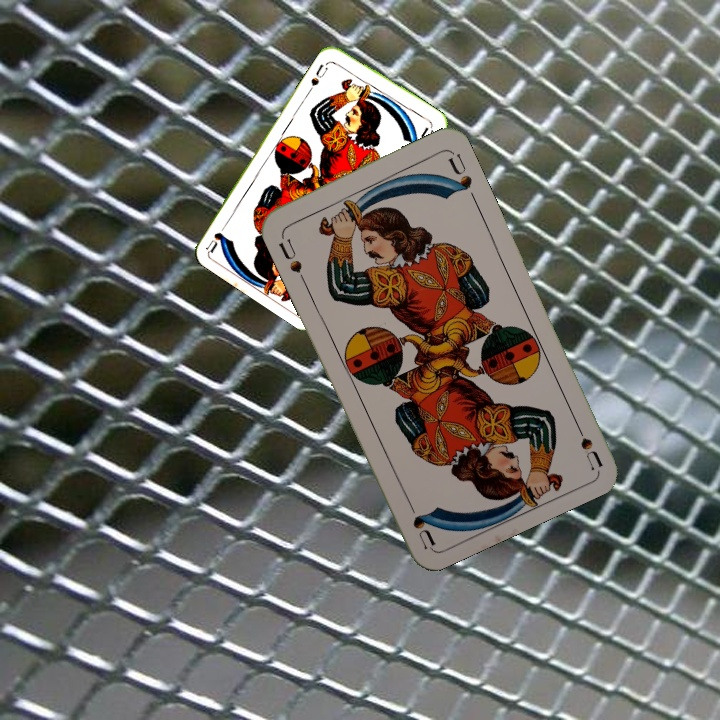SU: (569, 414, 605, 471), (274, 229, 308, 285), (307, 60, 330, 88)
